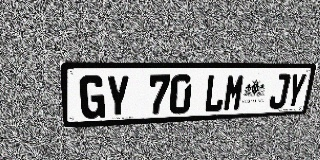0: (169, 74, 193, 114)
7: (147, 75, 171, 116)
G: (79, 75, 105, 119)
J: (268, 74, 291, 109)
L: (203, 74, 227, 113)
M: (222, 74, 246, 112)
Y: (106, 75, 130, 118), (284, 74, 307, 108)
